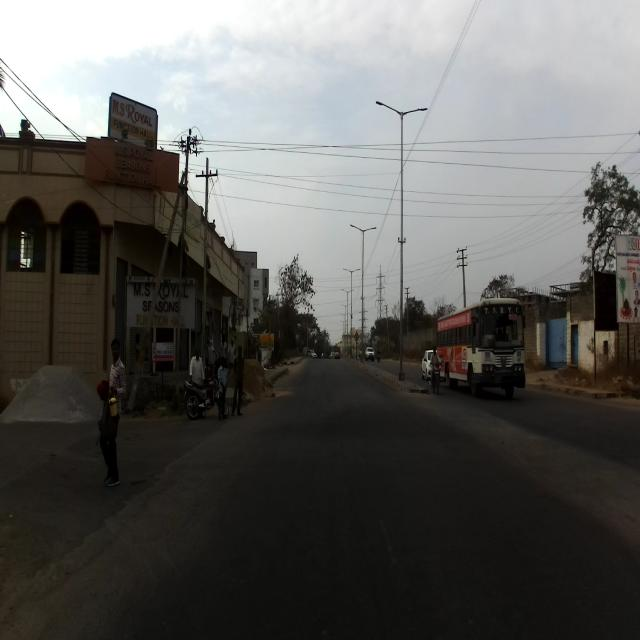person ahead at: (94, 333, 134, 498)
